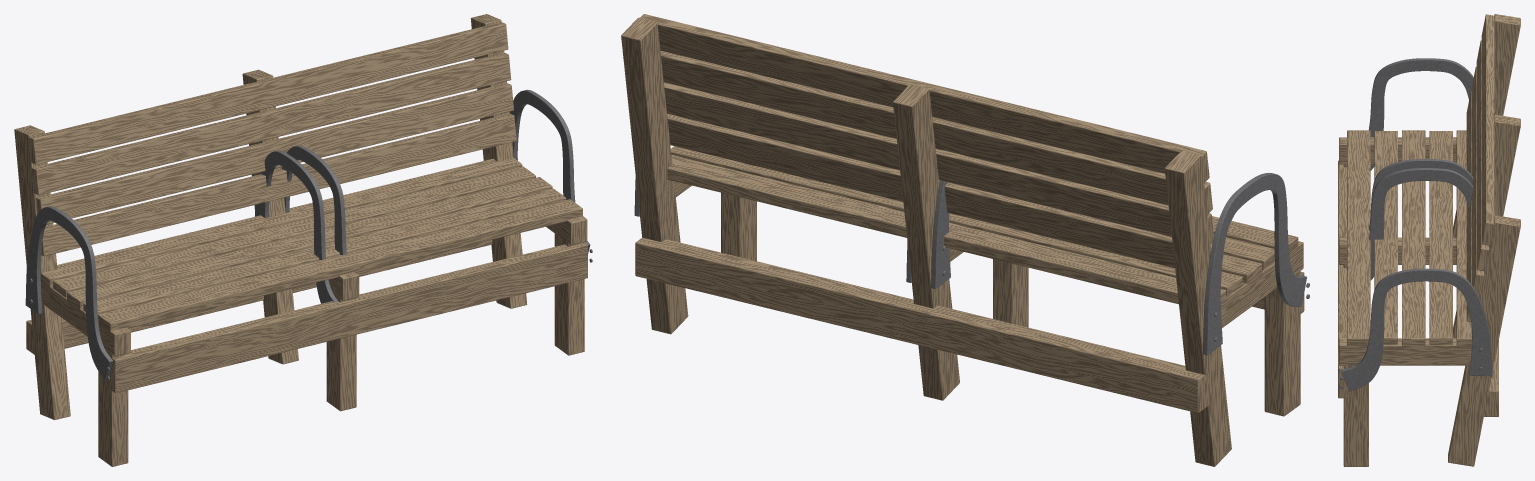
File: wooden-bench.glb
The picture shows the model from 3 angles, left to right: view 1: azimuth 30°, elevation 25°; view 2: azimuth 150°, elevation 25°; view 3: azimuth 270°, elevation 25°; orthographic projection. The views are drawn at different scales.
Parts seen in each view (by area): view 1: back_slats, seat_slats, apron_front, trestle_left, trestle_right, trestle_center, arm_left_outer, back_brace, arm_left_inner, arm_right_outer, arm_right_inner; view 2: back_slats, back_brace, seat_slats, trestle_left, trestle_right, trestle_center, arm_left_outer, arm_left_inner; view 3: seat_slats, trestle_right, back_slats, arm_right_outer, trestle_left, trestle_center, arm_right_inner, arm_left_outer, apron_front, arm_left_inner, back_brace.
Boxes of the visible parts, bbox=[...] form: back_slats: bbox=[29, 22, 516, 256]; seat_slats: bbox=[40, 158, 582, 331]; apron_front: bbox=[108, 243, 587, 393]; trestle_left: bbox=[14, 125, 130, 466]; trestle_right: bbox=[470, 14, 587, 355]; trestle_center: bbox=[242, 69, 359, 411]; arm_left_outer: bbox=[25, 206, 112, 380]; back_brace: bbox=[26, 240, 492, 354]; arm_left_inner: bbox=[255, 150, 338, 303]; arm_right_outer: bbox=[509, 89, 592, 262]; arm_right_inner: bbox=[281, 145, 346, 254]; back_slats: bbox=[640, 14, 1213, 268]; back_brace: bbox=[635, 237, 1209, 413]; seat_slats: bbox=[667, 146, 1298, 304]; trestle_left: bbox=[1164, 150, 1303, 466]; trestle_right: bbox=[621, 17, 756, 334]; trestle_center: bbox=[893, 84, 1028, 400]; arm_left_outer: bbox=[1203, 173, 1309, 355]; arm_left_inner: bbox=[931, 180, 950, 288]; seat_slats: bbox=[1347, 130, 1472, 346]; trestle_right: bbox=[1339, 215, 1520, 466]; back_slats: bbox=[1466, 14, 1494, 321]; arm_right_outer: bbox=[1340, 268, 1492, 391]; trestle_left: bbox=[1339, 14, 1520, 237]; trestle_center: bbox=[1339, 114, 1520, 338]; arm_right_inner: bbox=[1346, 168, 1473, 280]; arm_left_outer: bbox=[1368, 58, 1473, 170]; apron_front: bbox=[1338, 160, 1349, 398]; arm_left_inner: bbox=[1369, 158, 1473, 230]; back_brace: bbox=[1482, 340, 1498, 416].
Bounding box in the file's own units: 1.6 × 0.857 × 0.5794.
2 materials, 2 textured.
